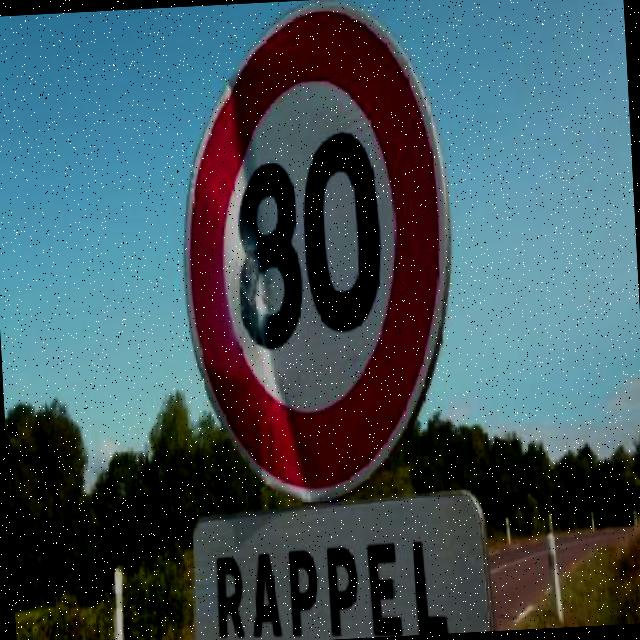Ograniczenie predkosci do 80: (194, 54, 434, 454)
